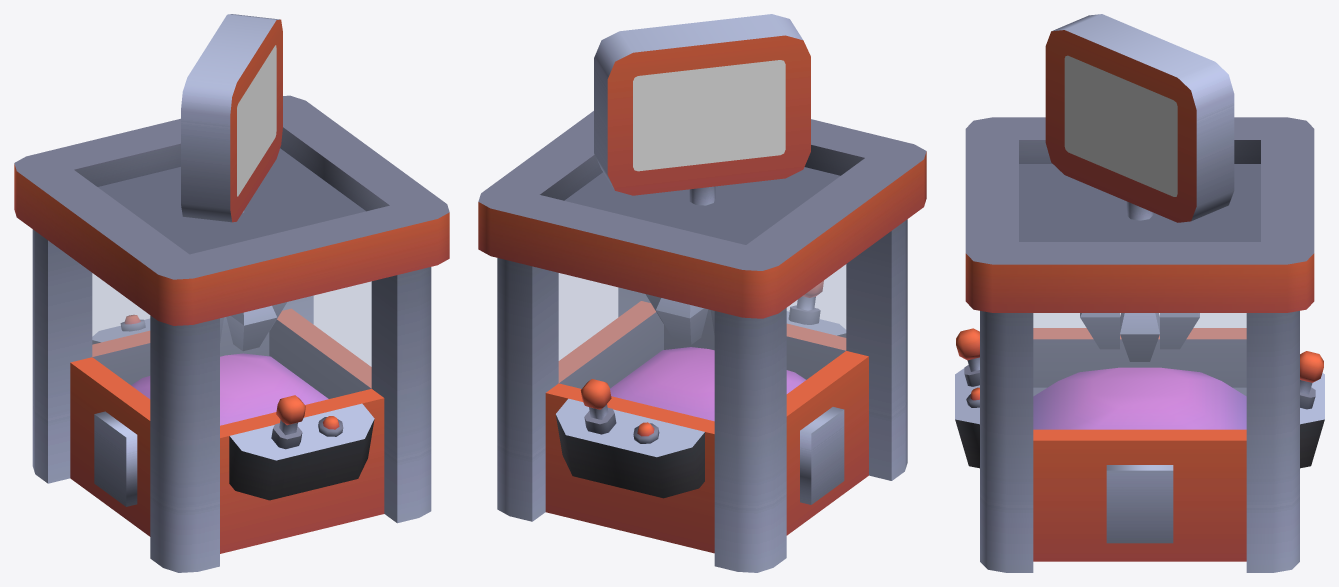
The model's file is claw-machine.glb.
The picture shows the model from 3 angles, left to right: view 1: azimuth 30°, elevation 25°; view 2: azimuth 150°, elevation 25°; view 3: azimuth 270°, elevation 25°; orthographic projection. The views are drawn at different scales.
Visible parts, largest first — view 1: claw-machine, (%ignore), rotate-y; view 2: claw-machine, rotate-y, (%ignore); view 3: claw-machine, rotate-y, (%ignore).
Boxes of the visible parts, x1=… form: claw-machine: x1=14, y1=95, x2=449, y2=572; (%ignore): x1=92, y1=273, x2=371, y2=425; rotate-y: x1=181, y1=14, x2=282, y2=222; claw-machine: x1=478, y1=111, x2=926, y2=572; rotate-y: x1=594, y1=14, x2=810, y2=195; (%ignore): x1=558, y1=264, x2=846, y2=420; claw-machine: x1=955, y1=117, x2=1324, y2=572; rotate-y: x1=1045, y1=14, x2=1234, y2=222; (%ignore): x1=1033, y1=313, x2=1246, y2=429.
Bounding box in the file's own units: 0.653 × 0.95 × 0.6932.
Materials: 2 (1 with a texture image).
